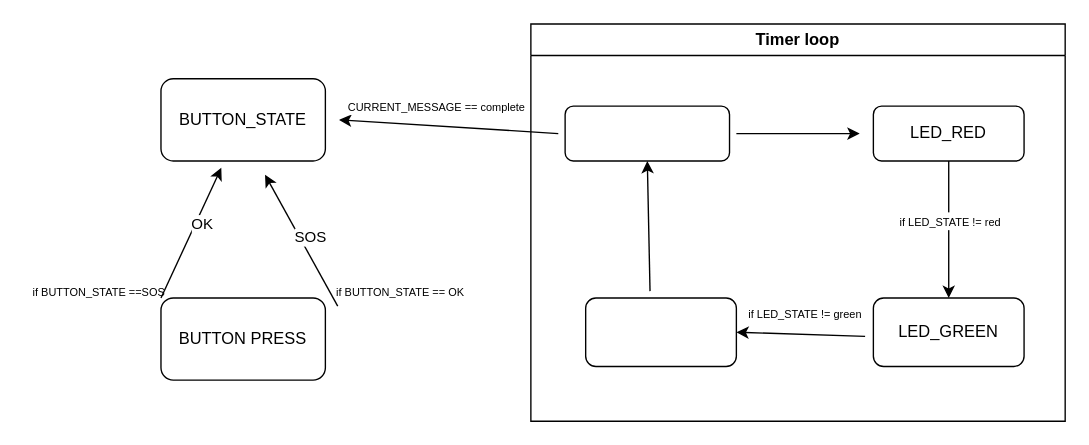
Image size: 1089x445. Some labels were removed from this diagram. The shapes that lost their labels are listed below. From the top down, each one's centre as x and y in pixels, then its label:
the point at 647,133: CURRENT_MESSAGE
the point at 660,331: LED_OFF
